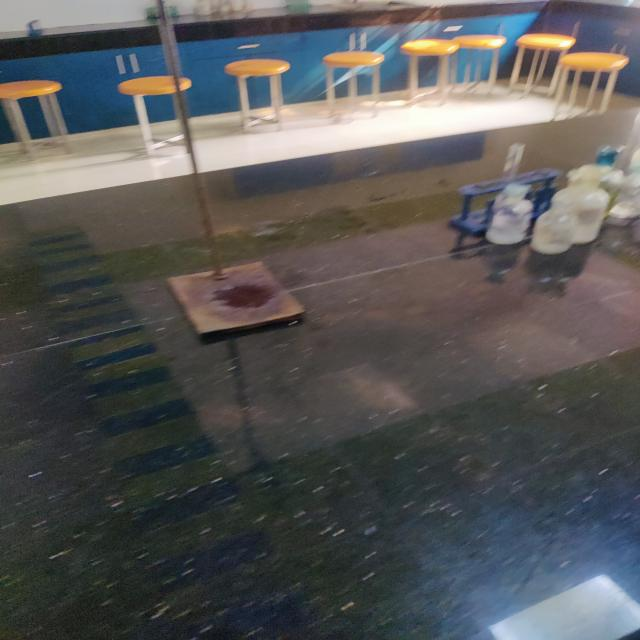Burette_Stands: (111, 0, 338, 359)
